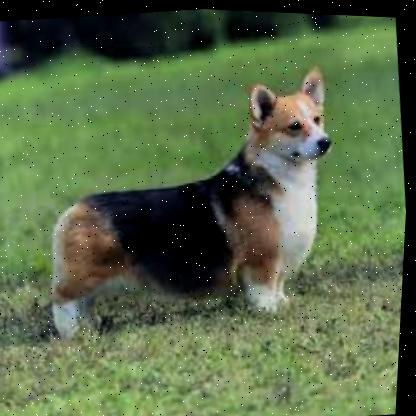dog: (20, 50, 355, 354)
